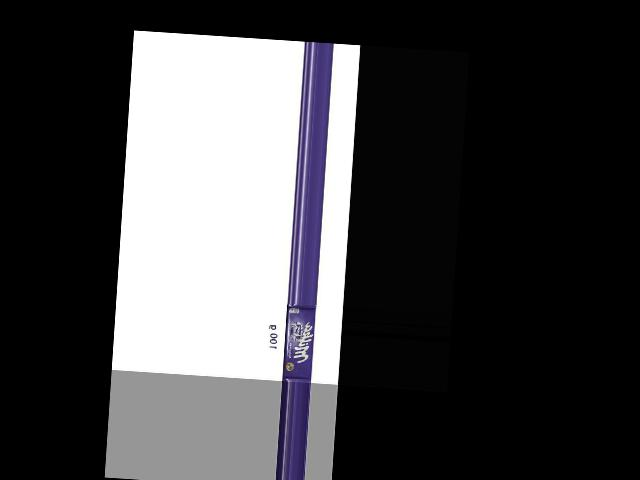chocolate: (276, 302, 316, 380)
